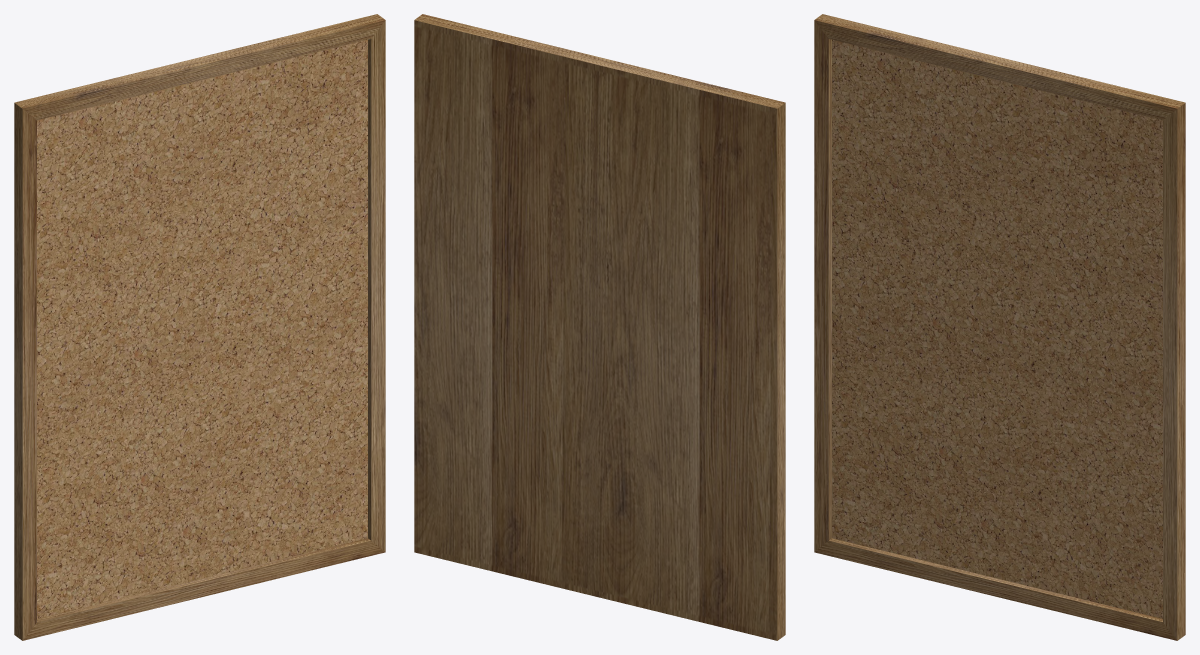
File: Anslagstavla.fbx
3 renders of one model, left to right at view 1: azimuth 30°, elevation 25°; view 2: azimuth 150°, elevation 25°; view 3: azimuth 330°, elevation 25°, orthographic.
Parts seen in each view (by area): view 1: Cube; view 2: Cube; view 3: Cube.
Boxes of the visible parts, x1,y1,x2,y2 form: Cube: (14,14,385,640); Cube: (414,14,785,640); Cube: (814,14,1185,640).
Size of the model in its own units: 0.5 by 0.02 by 0.7.
